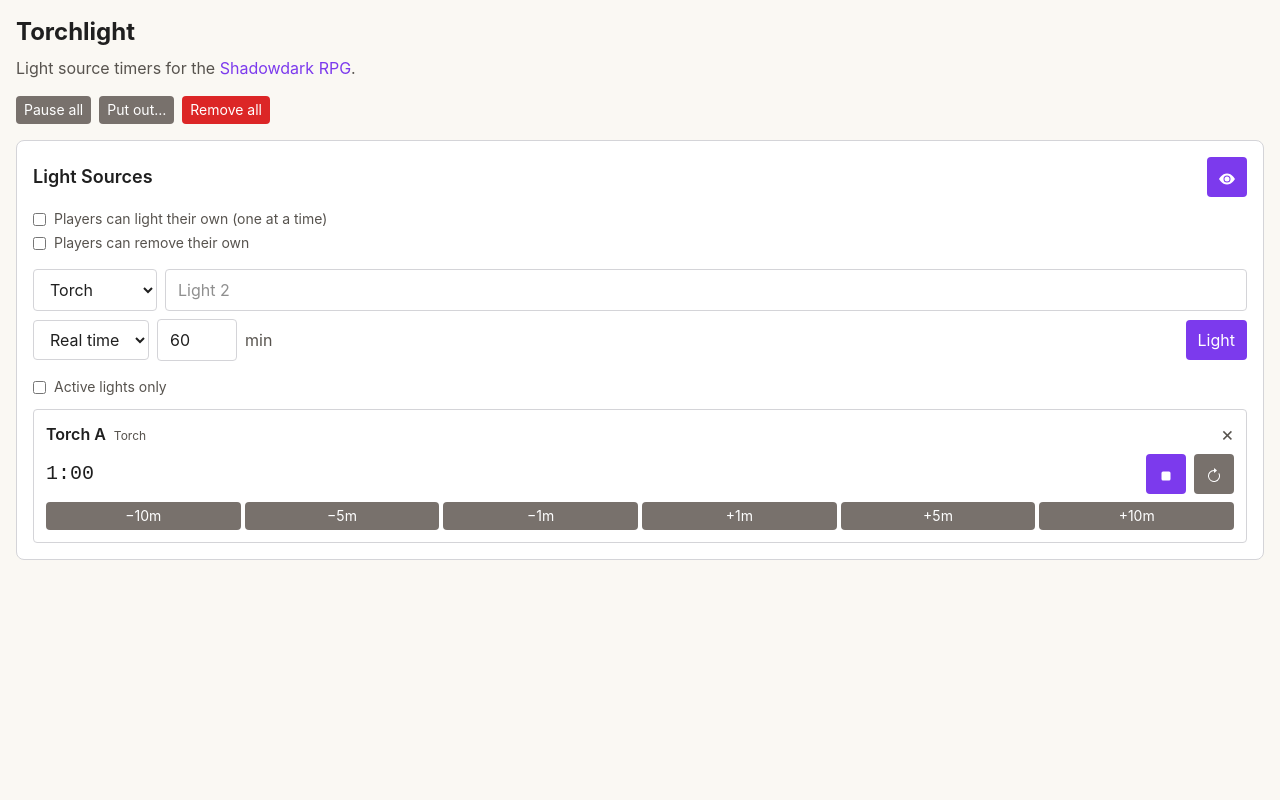
Test: Main (Torchlight) › pause toggle and active filter › one button pauses everything, then resumes it
The width and height of the screenshot is (1280, 800).
Click the button "Pause all" at (54, 110), box [16,96,91,124]
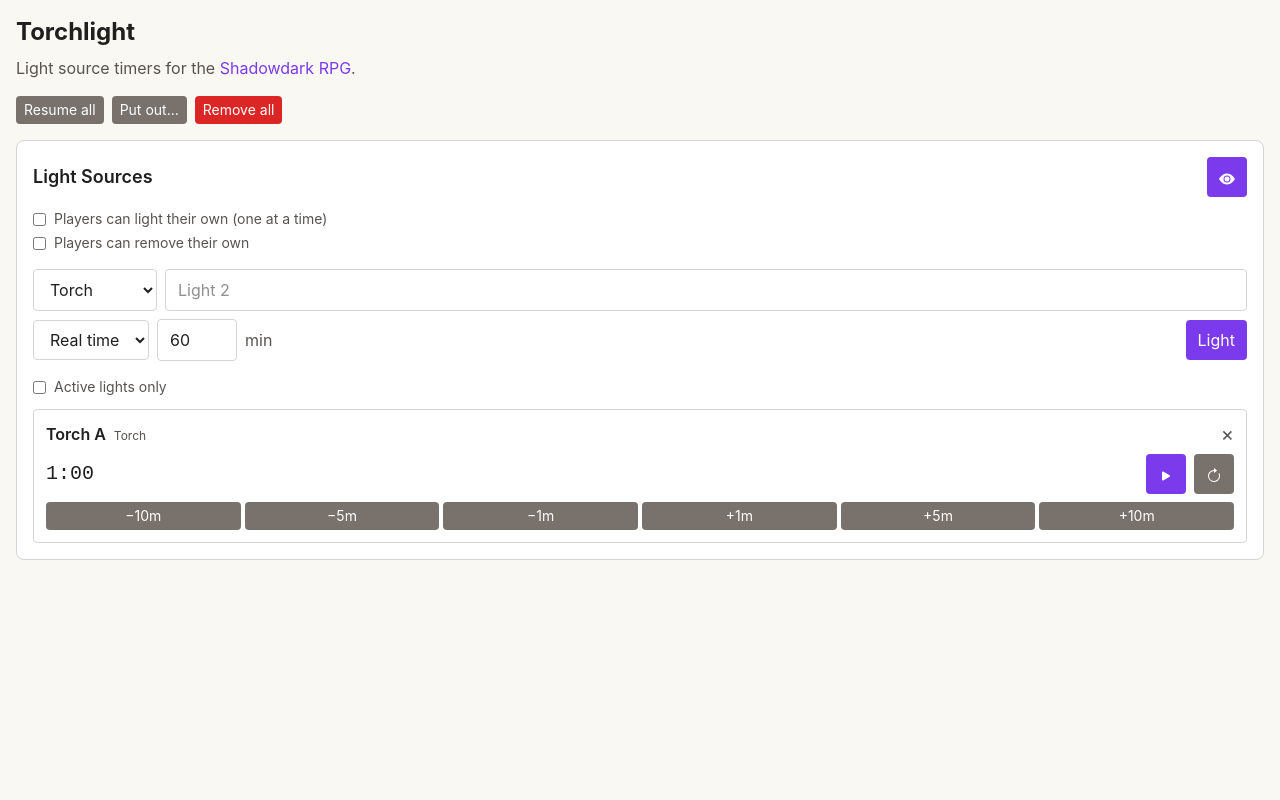
Now the button "Pause all" is gone
Click the button "Resume all" at (60, 110), box [16,96,104,124]
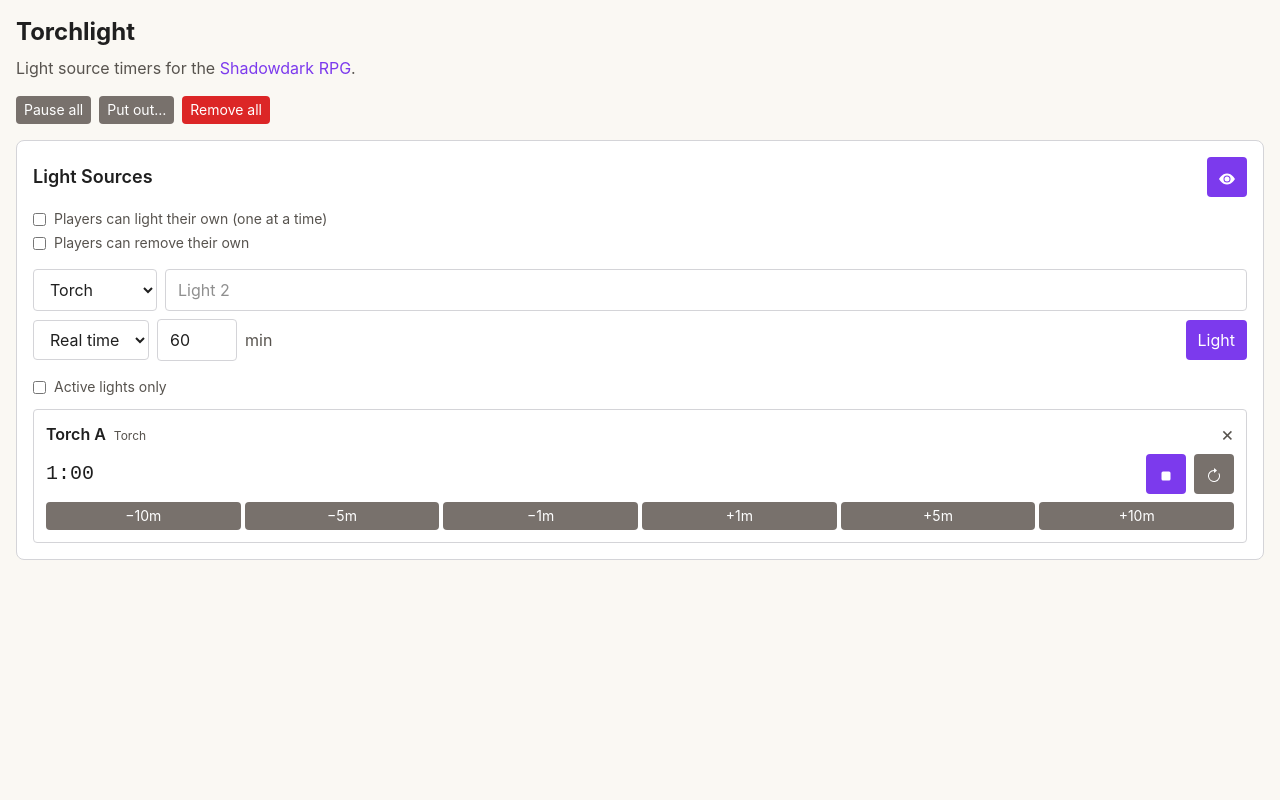
Now the button "Pause all" is shown, box [16,96,91,124]
